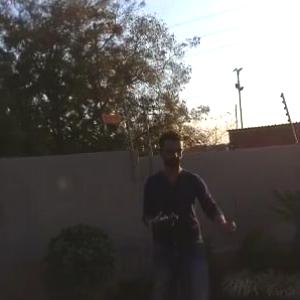follow: (139, 121, 241, 299)
